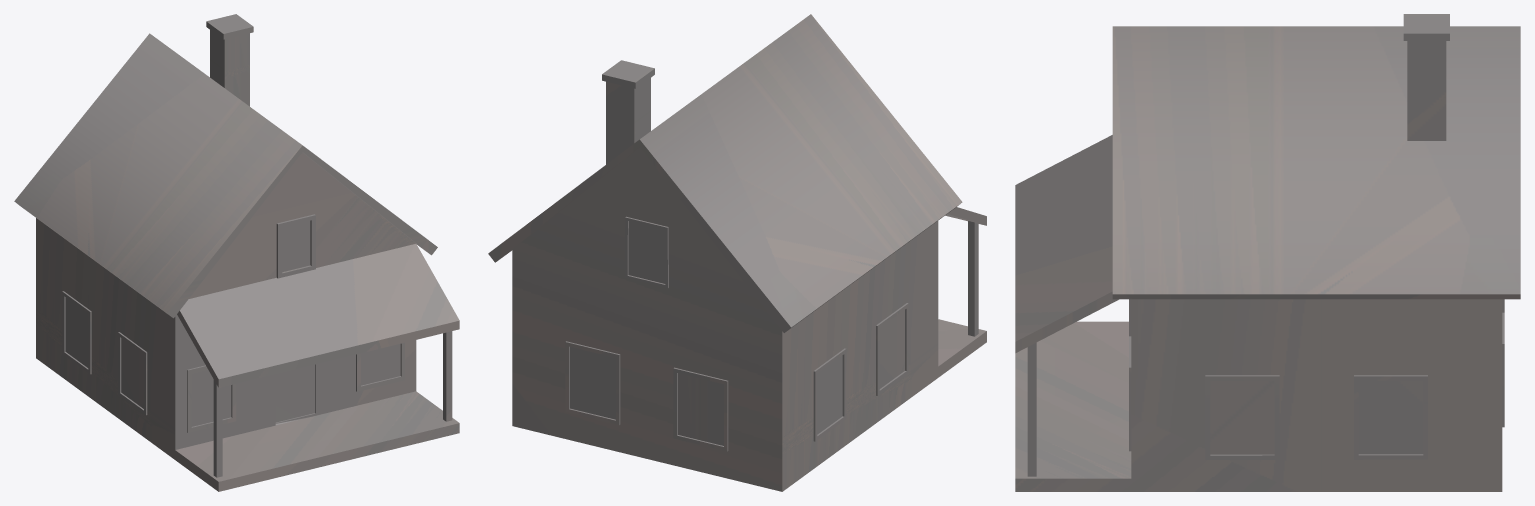
Rendered from FarmHouse.fbx.
3 views of the same model, side by side, from view 1: azimuth 30°, elevation 25°; view 2: azimuth 150°, elevation 25°; view 3: azimuth 270°, elevation 25° (orthographic). The views are drawn at different scales.
Parts seen in each view (by area): view 1: pCube3; view 2: pCube3; view 3: pCube3.
Boxes of the visible parts, bbox=[...] form: pCube3: bbox=[14, 14, 459, 491]; pCube3: bbox=[488, 14, 986, 491]; pCube3: bbox=[1015, 14, 1520, 491].
Size of the model in its own units: 899 by 997 by 1090.
